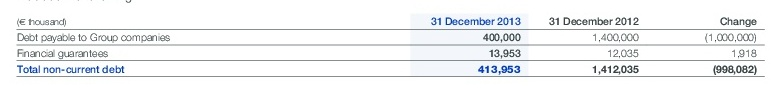table: (0, 0, 781, 91)
